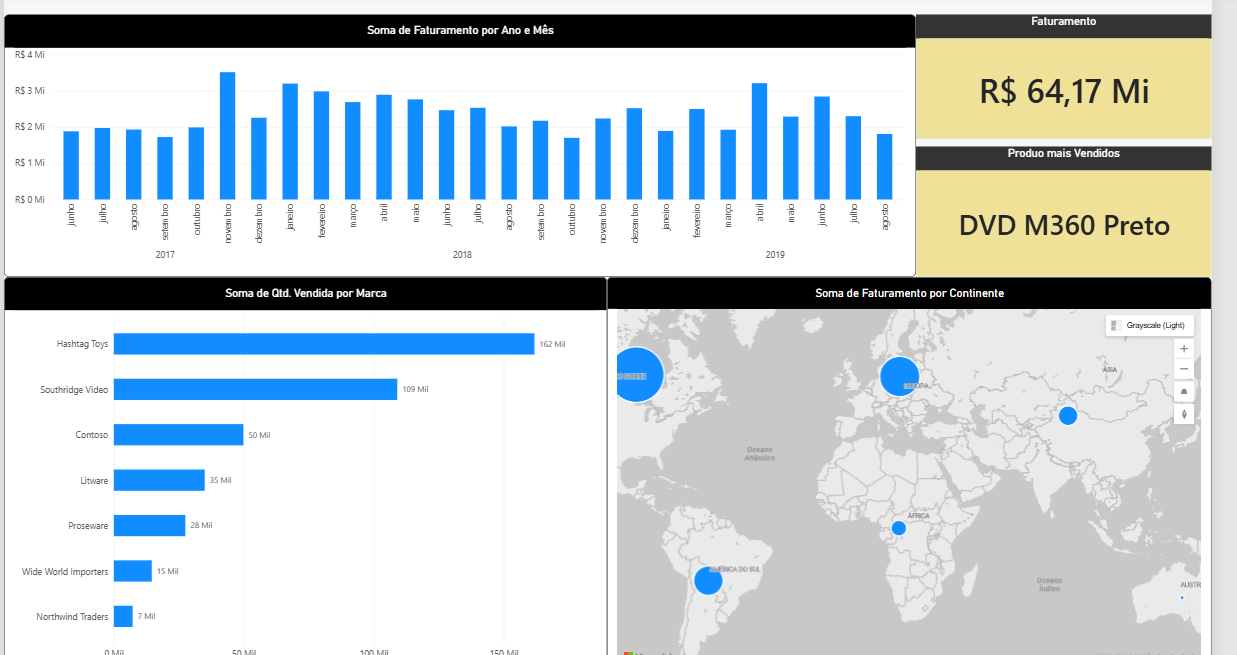

What the dashboard file says about the page in this screenshot:
{"tool":"powerbi","page":{"name":"Página 1","canvas":[1920,1080],"ordinal":0},"visuals":[{"type":"cardVisual","title":"Faturamento","fields":{"Data":["Sum(Base_Venda.Faturamento)"]},"box":[1450.6,31,470,198],"z":0},{"type":"cardVisual","title":"Produo mais Vendidos","fields":{"Data":["Min(Base_Venda.Produto)"]},"box":[1450.6,241,470,207.6],"z":1},{"type":"clusteredBarChart","fields":{"Category":["Base_Venda.Marca"],"Y":["Sum(Base_Venda.Qtd. Vendida)"]},"box":[0,448.6,959.1,632.3],"z":2},{"type":"columnChart","fields":{"Category":["Base_Venda.Data da Venda.Variation.Hierarquia de datas.Ano","Base_Venda.Data da Venda.Variation.Hierarquia de datas.Mês"],"Y":["Sum(Base_Venda.Faturamento)"]},"box":[0,31,1450.6,417.5],"z":3},{"type":"azureMap","fields":{"Category":["Base_Venda.Continente"],"Size":["Sum(Base_Venda.Faturamento)"]},"box":[959.1,448.6,961.5,632.3],"z":4}]}

Visuals, with their boxes in screenshot pixels (x1, y1, x2, y2):
"Faturamento" cardVisual: 911:16:1202:139
"Produo mais Vendidos" cardVisual: 911:146:1202:274
clusteredBarChart - Base_Venda.Marca x Sum(Base_Venda.Qtd. Vendida): 13:274:607:654
columnChart - Base_Venda.Data da Venda.Variation.Hierarquia de datas.Ano x Base_Venda.Data da Venda.Variation.Hierarquia de datas.Mês: 13:16:911:274
azureMap - Base_Venda.Continente x Sum(Base_Venda.Faturamento): 607:274:1202:654
